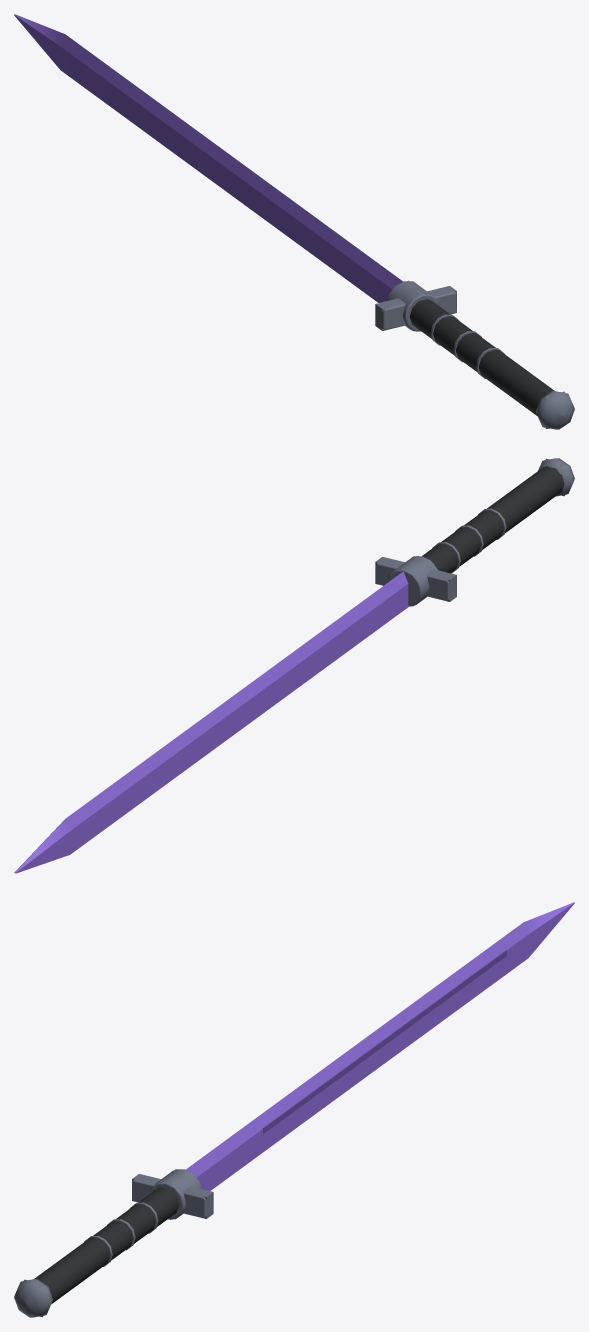
File: blade.glb
The picture shows the model from 3 angles, top to bottom: view 1: azimuth 30°, elevation 25°; view 2: azimuth 150°, elevation 25°; view 3: azimuth 330°, elevation 25°; orthographic projection.
Parts seen in each view (by area): view 1: L0, L1; view 2: L0, L1; view 3: L0, L1.
Boxes of the visible parts, x1,y1,x2,y2 form: L0: (14,14,574,429); L1: (375,280,573,428); L0: (14,458,574,873); L1: (375,458,565,605); L0: (14,902,574,1317); L1: (15,1170,213,1316).
Size of the model in its own units: 0.085 by 0.0418 by 1.08.
